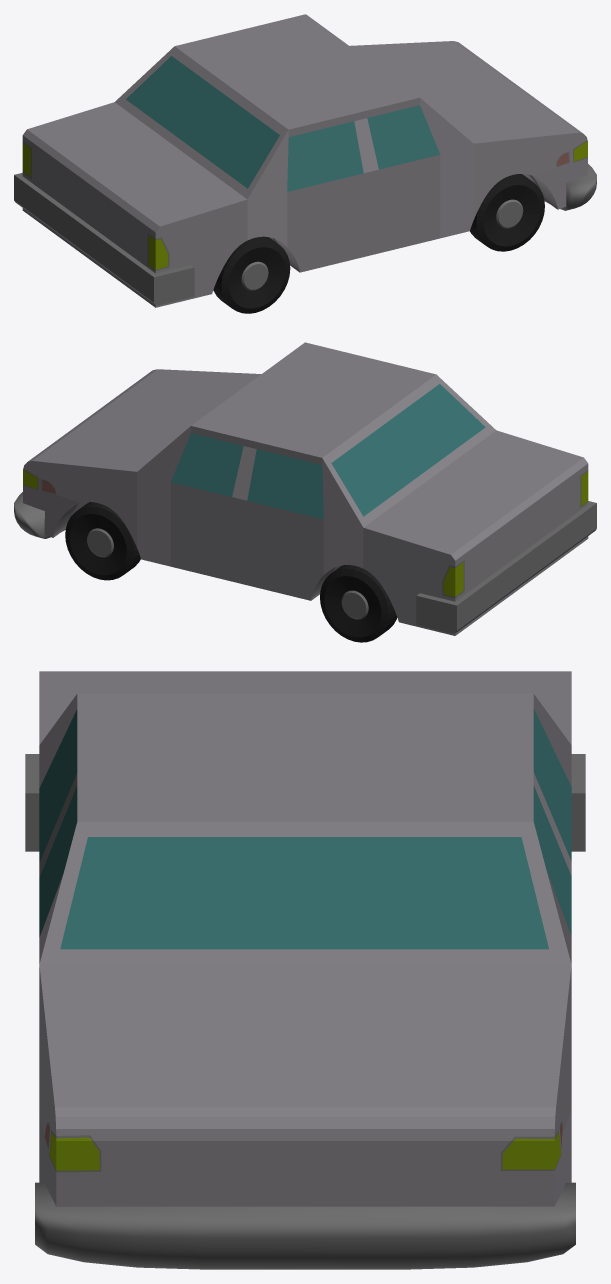
File: auto blanco.fbx
3 views of the same model, one above another, from view 1: azimuth 30°, elevation 25°; view 2: azimuth 150°, elevation 25°; view 3: azimuth 270°, elevation 25° (orthographic). The views are drawn at different scales.
Parts seen in each view (by area): view 1: Cube, Cylinder, Cube.002; view 2: Cube, Cylinder, Cube.002; view 3: Cube, Cube.002.
Part boxes in pixels (box(x1,y1,x2,y2)): Cube: box(22, 14, 587, 307); Cylinder: box(213, 174, 544, 313); Cube.002: box(14, 164, 596, 305); Cube: box(23, 342, 588, 635); Cylinder: box(65, 502, 397, 642); Cube.002: box(14, 492, 596, 633); Cube: box(39, 671, 571, 1206); Cube.002: box(25, 754, 585, 1269).
Size of the model in its own units: 396 by 211 by 140.
